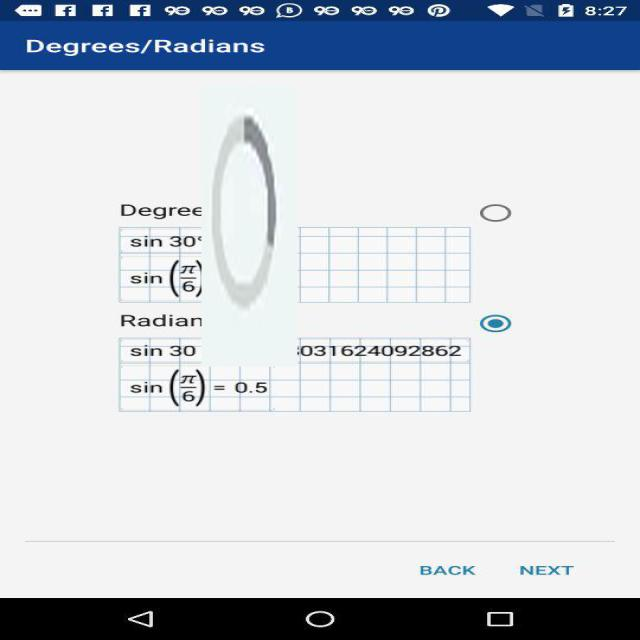misdirection: (202, 85, 298, 367)
